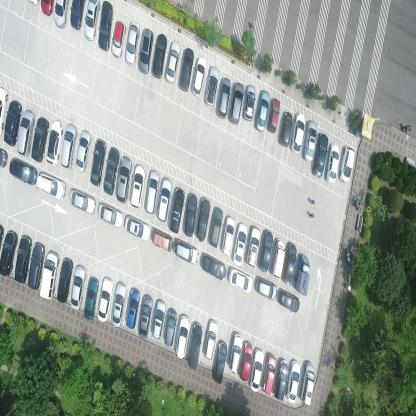car: (40, 250, 60, 301), (96, 0, 114, 52), (15, 111, 36, 155), (14, 234, 32, 285), (114, 154, 132, 203), (31, 116, 50, 162), (102, 146, 120, 194), (46, 118, 64, 166), (55, 256, 73, 304), (3, 101, 22, 146), (136, 27, 154, 74), (9, 156, 38, 185), (36, 172, 66, 200), (60, 121, 77, 170), (0, 228, 17, 277), (96, 276, 113, 324), (28, 242, 45, 290), (298, 360, 316, 405), (201, 252, 227, 283), (90, 138, 106, 187), (187, 321, 203, 370), (69, 186, 96, 215), (123, 20, 140, 66), (82, 0, 100, 43), (124, 213, 150, 242), (98, 201, 124, 230), (70, 264, 86, 311), (210, 339, 227, 383), (195, 196, 211, 242), (280, 241, 297, 284), (228, 266, 253, 295), (174, 237, 199, 266), (169, 188, 185, 233), (156, 177, 172, 222), (137, 292, 152, 340), (178, 47, 194, 91), (164, 40, 180, 84), (150, 34, 166, 78), (256, 228, 272, 272), (130, 164, 146, 208), (75, 128, 91, 172), (261, 351, 277, 395), (83, 276, 99, 320), (175, 314, 190, 360), (111, 282, 126, 328), (312, 132, 328, 175), (301, 119, 317, 162), (254, 89, 270, 132), (203, 65, 219, 108), (244, 225, 260, 268), (232, 223, 248, 266), (284, 358, 300, 401), (226, 332, 243, 372), (249, 348, 264, 393), (207, 206, 223, 248), (145, 168, 159, 216), (273, 358, 289, 400), (289, 113, 305, 154), (110, 19, 126, 60), (294, 253, 310, 294), (220, 216, 236, 257), (338, 145, 355, 183), (228, 82, 243, 125), (151, 298, 166, 341), (324, 143, 340, 183), (269, 238, 285, 278), (216, 76, 231, 118), (203, 318, 218, 360), (190, 57, 206, 96), (126, 286, 140, 330), (238, 340, 253, 381), (184, 193, 198, 236), (254, 276, 277, 301), (278, 288, 300, 314), (278, 111, 292, 149), (266, 97, 280, 134), (164, 308, 177, 347), (242, 84, 255, 122), (53, 0, 69, 30), (0, 85, 9, 138), (70, 0, 85, 31), (152, 228, 172, 250)
